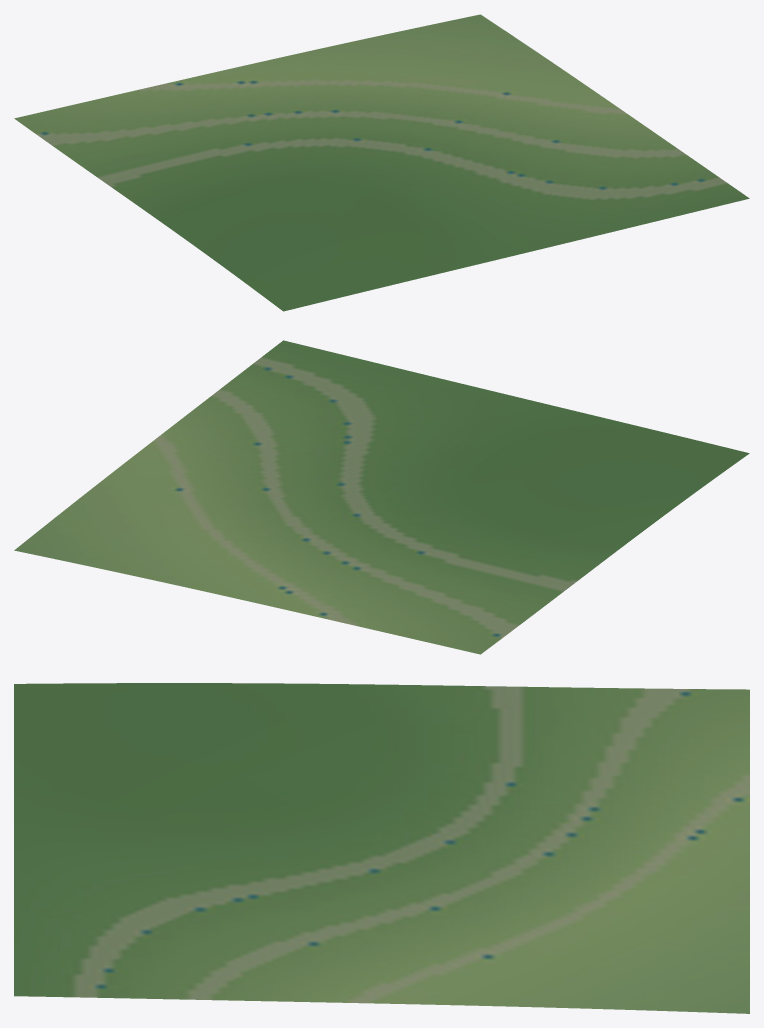
File: terrain_T_W02_S03.glb
3 views of the same model, one above another, from view 1: azimuth 30°, elevation 25°; view 2: azimuth 150°, elevation 25°; view 3: azimuth 270°, elevation 25° (orthographic). The views are drawn at different scales.
Visible parts, largest first — view 1: Terrain_T_W02_S03; view 2: Terrain_T_W02_S03; view 3: Terrain_T_W02_S03.
Part boxes in pixels (x1=…): Terrain_T_W02_S03: x1=14, y1=14, x2=749, y2=311; Terrain_T_W02_S03: x1=14, y1=340, x2=749, y2=654; Terrain_T_W02_S03: x1=14, y1=683, x2=749, y2=1013.
Bounding box in the file's own units: 2000 × 60.11 × 2000.
Materials: 1 (1 with a texture image).
